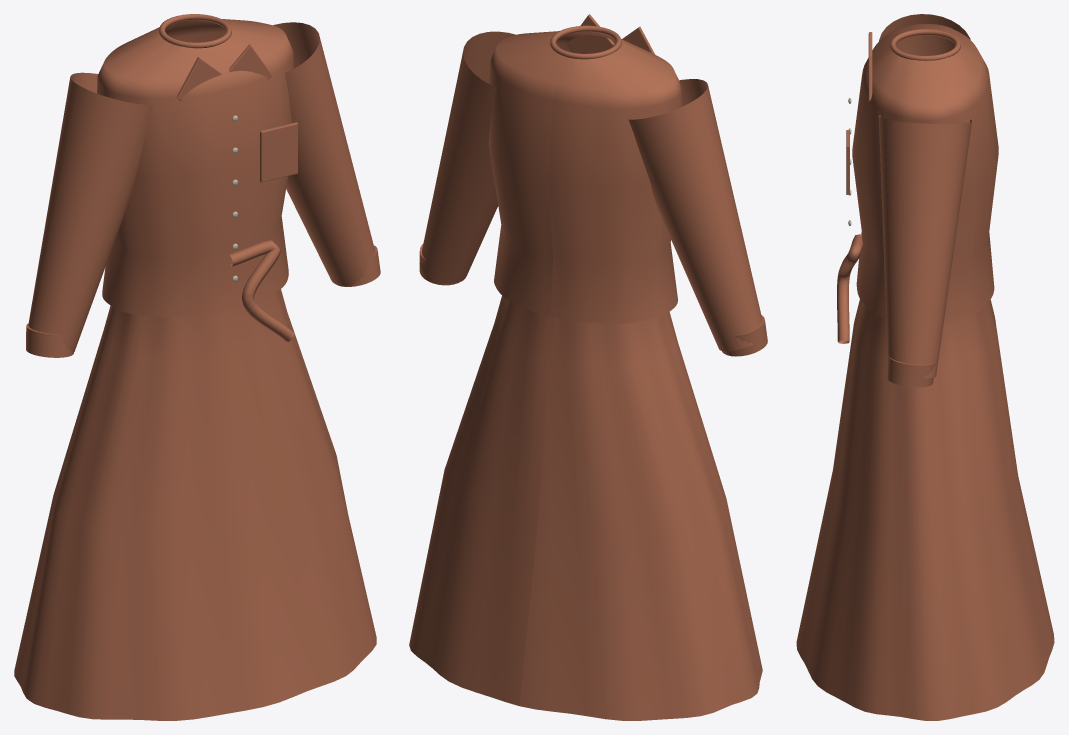
The model's file is robe-patio-homme.glb.
3 renders of one model, left to right at view 1: azimuth 30°, elevation 25°; view 2: azimuth 150°, elevation 25°; view 3: azimuth 270°, elevation 25°, orthographic. The views are drawn at different scales.
Visible parts, largest first — view 1: edit-18, long-sleeve (×2); view 2: edit-18, long-sleeve (×2); view 3: edit-18, long-sleeve (×2).
Boxes of the visible parts, x1,y1,x2,y2 form: edit-18: (14,14,380,720); long-sleeve (×2): (28,22,375,352); edit-18: (409,14,767,720); long-sleeve (×2): (419,31,762,351); edit-18: (796,24,1054,720); long-sleeve (×2): (878,14,972,378).
Size of the model in its own units: 0.7505 by 1.3 by 0.5053.
